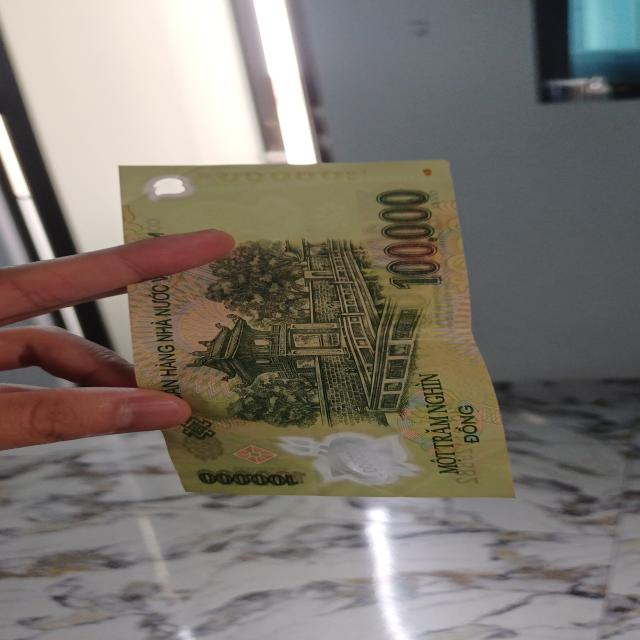100 000 VND: (111, 160, 533, 500)
